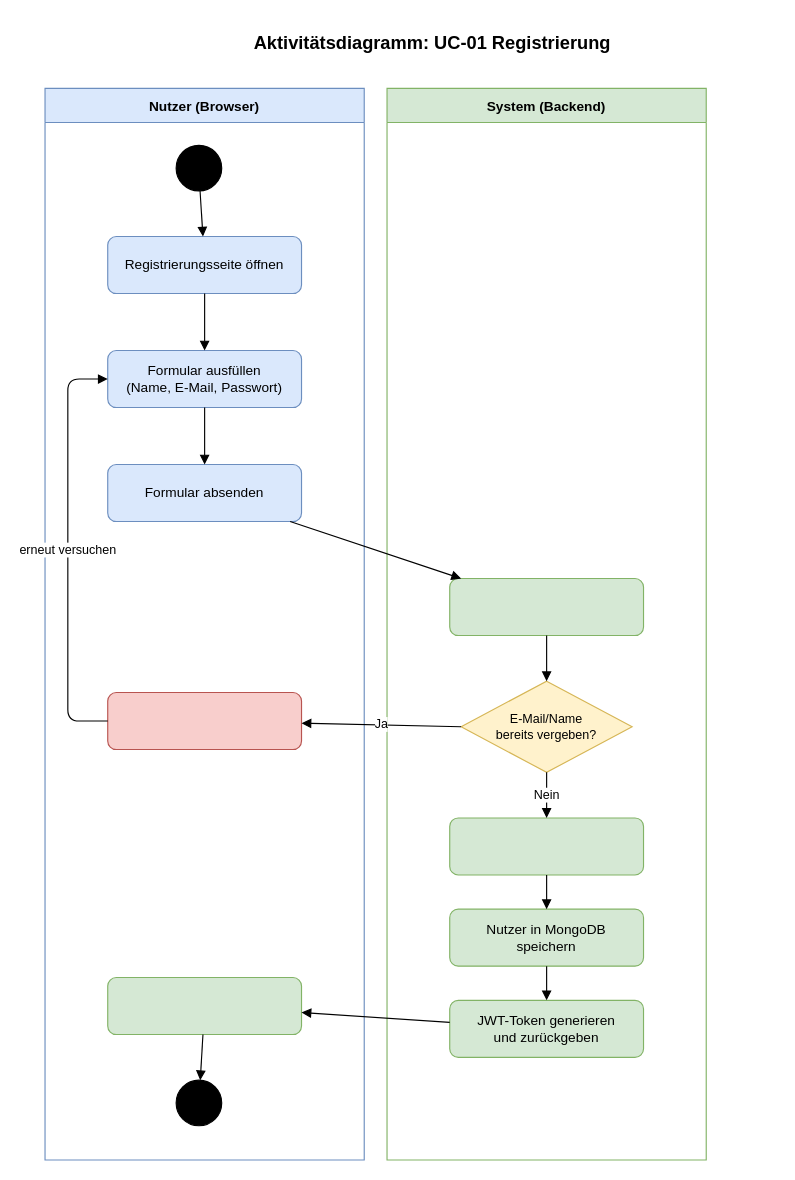
Some shapes in this 795 by 1180 pixel diagram are drawn without their labels. The shapes that lost their labels are listed below. From the top down, each one's centre as x and y in pixels, then its label:
the point at 546,606: Eingaben validieren (Format prüfen)
the point at 204,720: Fehlermeldung anzeigen
the point at 546,846: Passwort hashen (BCrypt)
the point at 204,1005: Zum Feed weiterleiten
